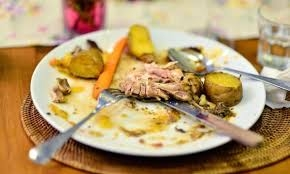kitchen_waste: (122, 64, 193, 104), (92, 30, 130, 100), (202, 70, 246, 107), (65, 45, 106, 78), (126, 22, 159, 62), (165, 45, 211, 72), (43, 74, 77, 106)
metal: (15, 87, 127, 164), (165, 44, 290, 93)
